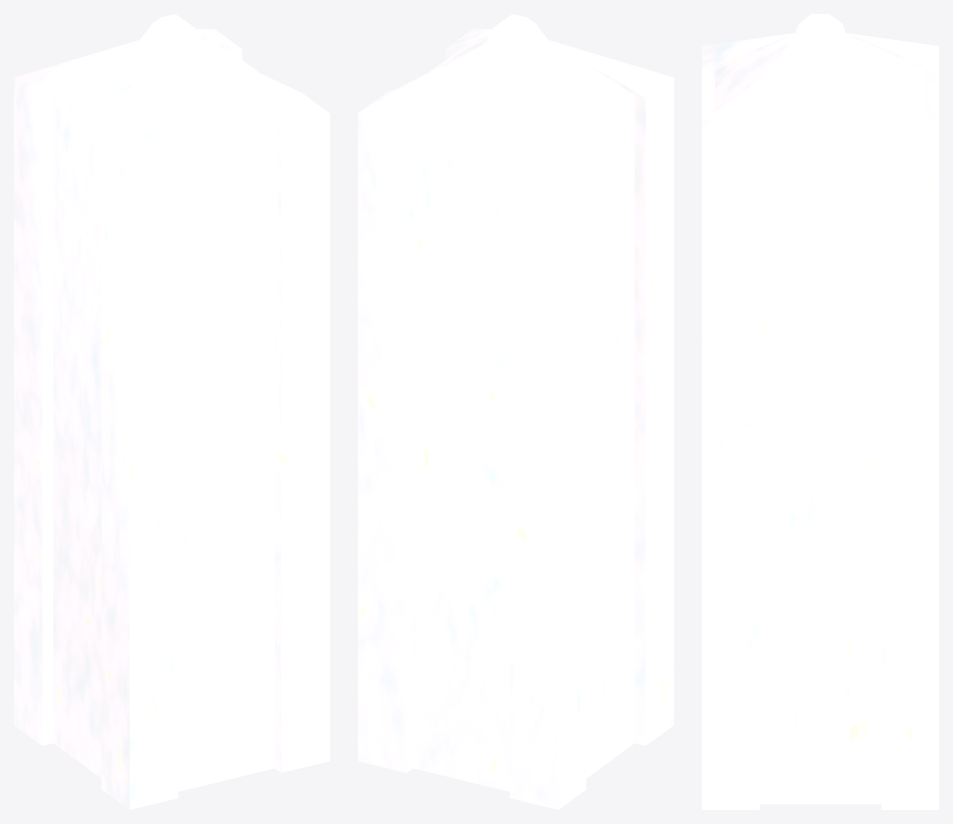
File: CA_006_iron_pillar_var4.glb
3 renders of one model, left to right at view 1: azimuth 30°, elevation 25°; view 2: azimuth 150°, elevation 25°; view 3: azimuth 270°, elevation 25°, orthographic. The views are drawn at different scales.
Parts seen in each view (by area): view 1: pillar; view 2: pillar; view 3: pillar.
Part boxes in pixels (x1,y1,x2,y2): pillar: [14, 14, 329, 809]; pillar: [358, 14, 673, 809]; pillar: [702, 14, 938, 809].
Size of the model in its own units: 0.75 by 2.6 by 0.75.
1 material, 1 textured.
